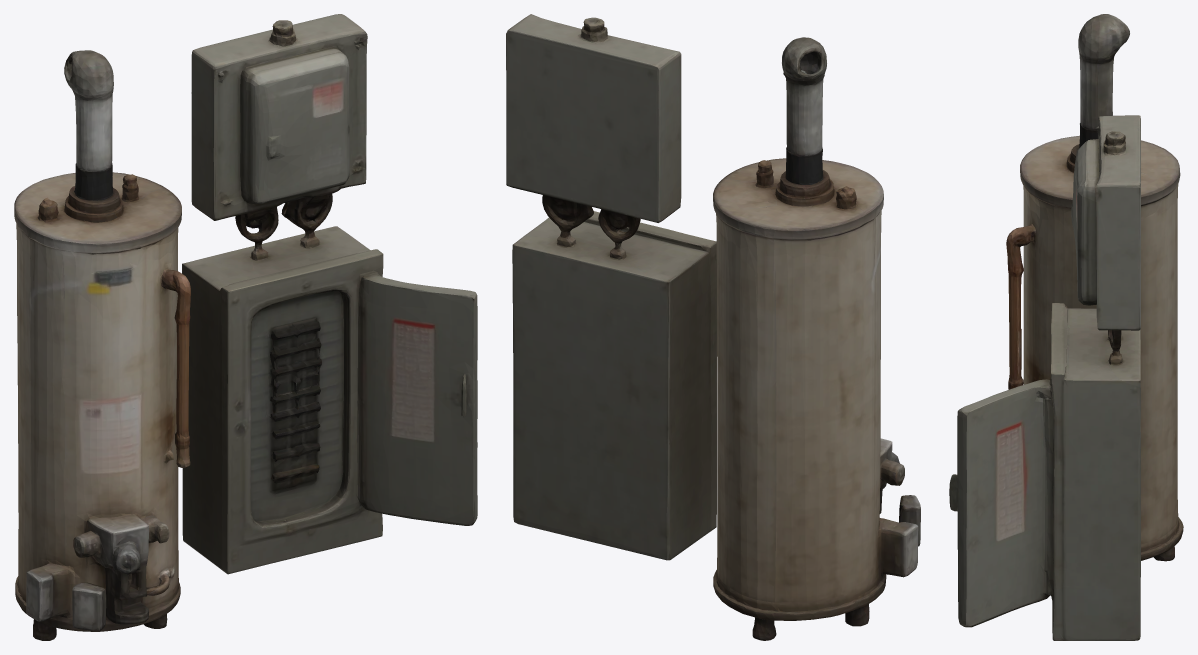
The model's file is utilities_breaker_fusebox.glb.
The picture shows the model from 3 angles, left to right: view 1: azimuth 30°, elevation 25°; view 2: azimuth 150°, elevation 25°; view 3: azimuth 270°, elevation 25°; orthographic projection. The views are drawn at different scales.
Visible parts, largest first — view 1: geometry_0; view 2: geometry_0; view 3: geometry_0.
Boxes of the visible parts, <box> form: geometry_0: <box>14,14,477,640</box>; geometry_0: <box>506,14,920,640</box>; geometry_0: <box>949,14,1183,640</box>.
Bounding box in the file's own units: 0.7345 × 1 × 0.3961.
Materials: 1 (1 with a texture image).
